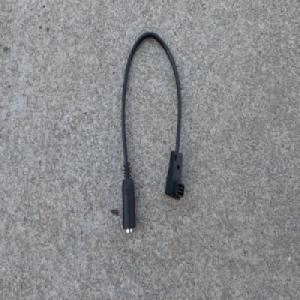Wire: (118, 29, 186, 239)
